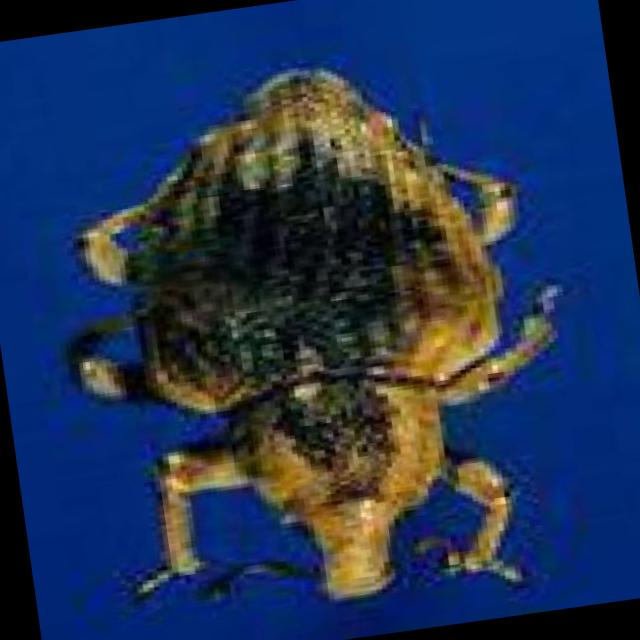rice-bug: (31, 36, 582, 640)
